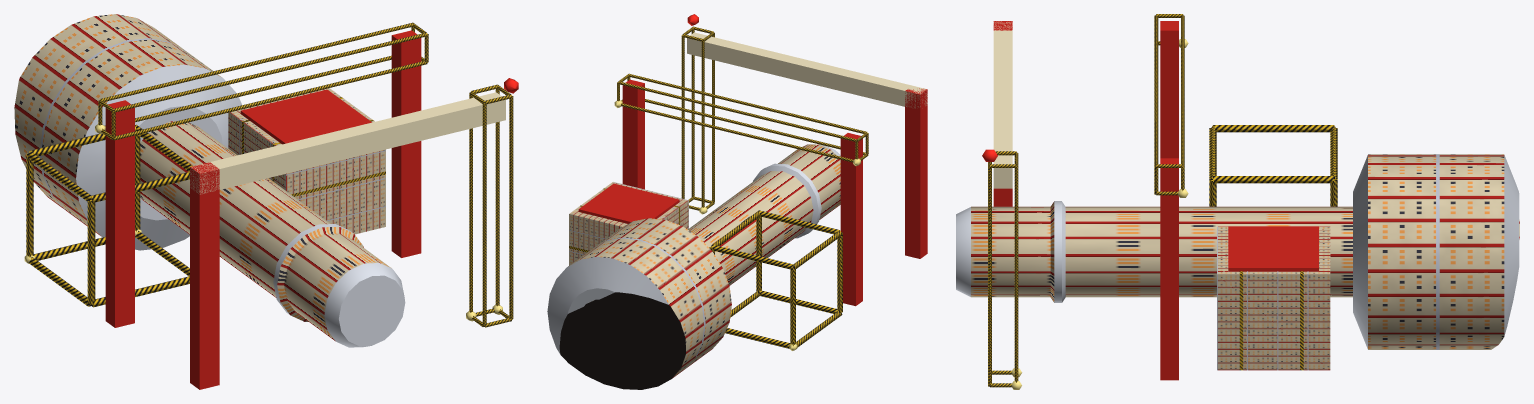
File: manufacturing_center_build2_debris2.obj
3 renders of one model, left to right at view 1: azimuth 30°, elevation 25°; view 2: azimuth 150°, elevation 25°; view 3: azimuth 270°, elevation 25°, orthographic. The views are drawn at different scales.
Visible parts, largest first — view 1: smelter2, spine, gantry_leg, girder, gantry_beam, cargo_bay, bay_door; view 2: smelter2, spine, girder, gantry_leg, gantry_beam, bay_door, cargo_bay; view 3: smelter2, spine, cargo_bay, girder, gantry_leg, bay_door, gantry_beam.
Part boxes in pixels (x1,y1,x2,y2): smelter2: [14, 14, 241, 250]; spine: [140, 121, 405, 347]; gantry_leg: [105, 30, 421, 389]; girder: [26, 22, 513, 327]; gantry_beam: [190, 92, 505, 194]; cargo_bay: [228, 88, 385, 234]; bay_door: [240, 89, 371, 144]; smelter2: [547, 218, 731, 389]; spine: [579, 144, 840, 354]; girder: [617, 26, 868, 348]; gantry_leg: [622, 79, 927, 306]; gantry_beam: [687, 32, 927, 108]; bay_door: [578, 183, 679, 223]; cargo_bay: [569, 182, 688, 265]; smelter2: [1353, 154, 1519, 349]; spine: [956, 201, 1519, 302]; cargo_bay: [1217, 226, 1330, 370]; girder: [988, 14, 1337, 387]; gantry_leg: [993, 21, 1178, 380]; bay_door: [1228, 226, 1318, 271]; gantry_beam: [993, 21, 1012, 188].
Size of the model in its own units: 96.73 by 77.87 by 149.
8 materials, 2 textured.
